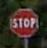stop: (8, 8, 39, 37)
